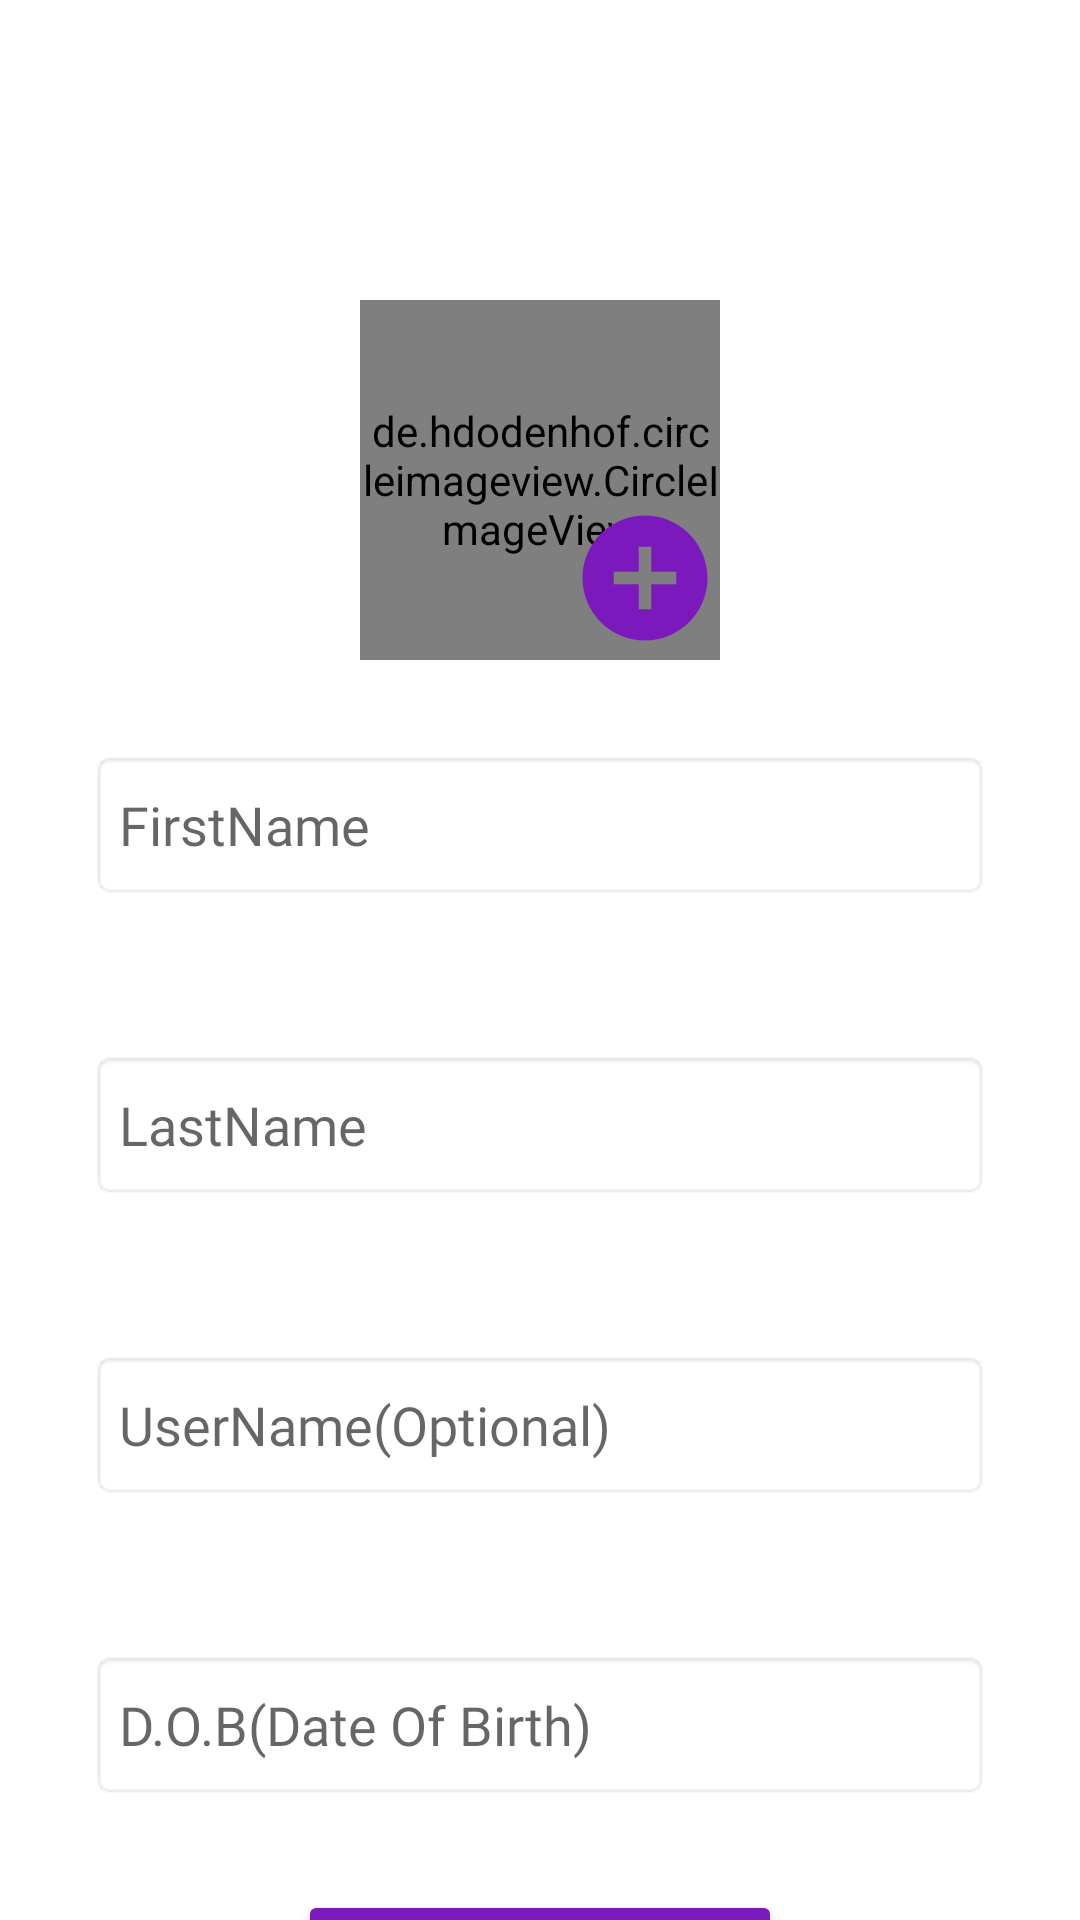

Icons on this 1080px x 1920px Android screen, each with its box as detection(x1, y1, x2, y2):
add: detection(578, 515, 708, 641)
